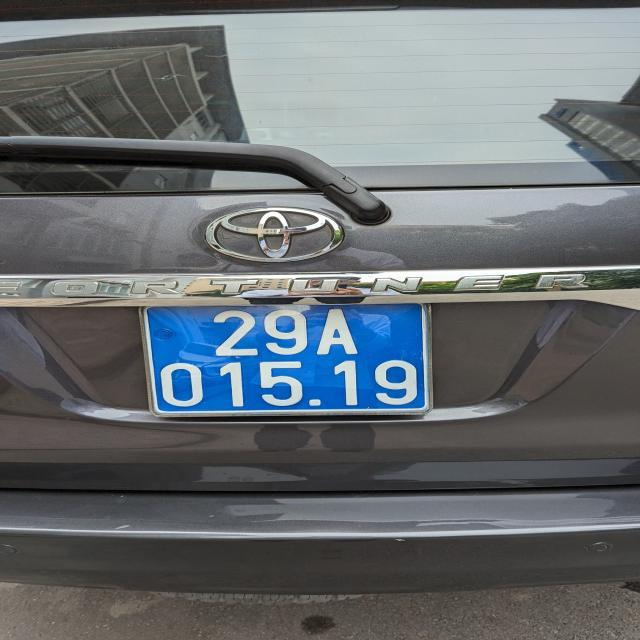license: (139, 301, 432, 417)
